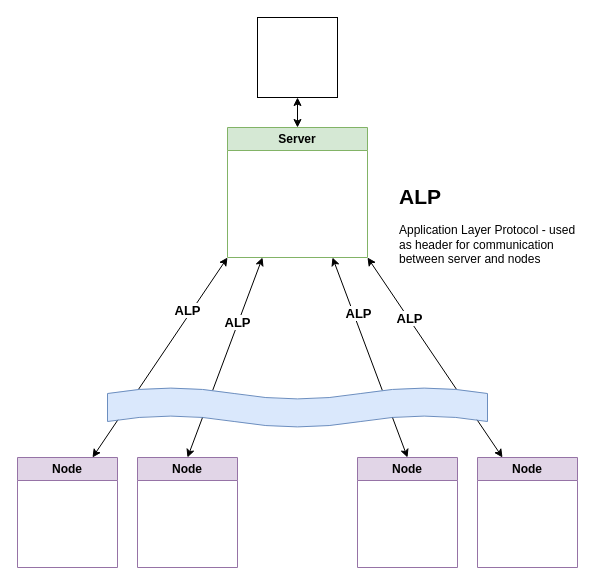
Image size: 595x585. Some labels were removed from this diagram. The shapes that lost their labels are listed below. From the top down, each one's centre as x and y in pixels, then its label:
pixel 297 57: Tuple space (Storage)
pixel 297 407: API
